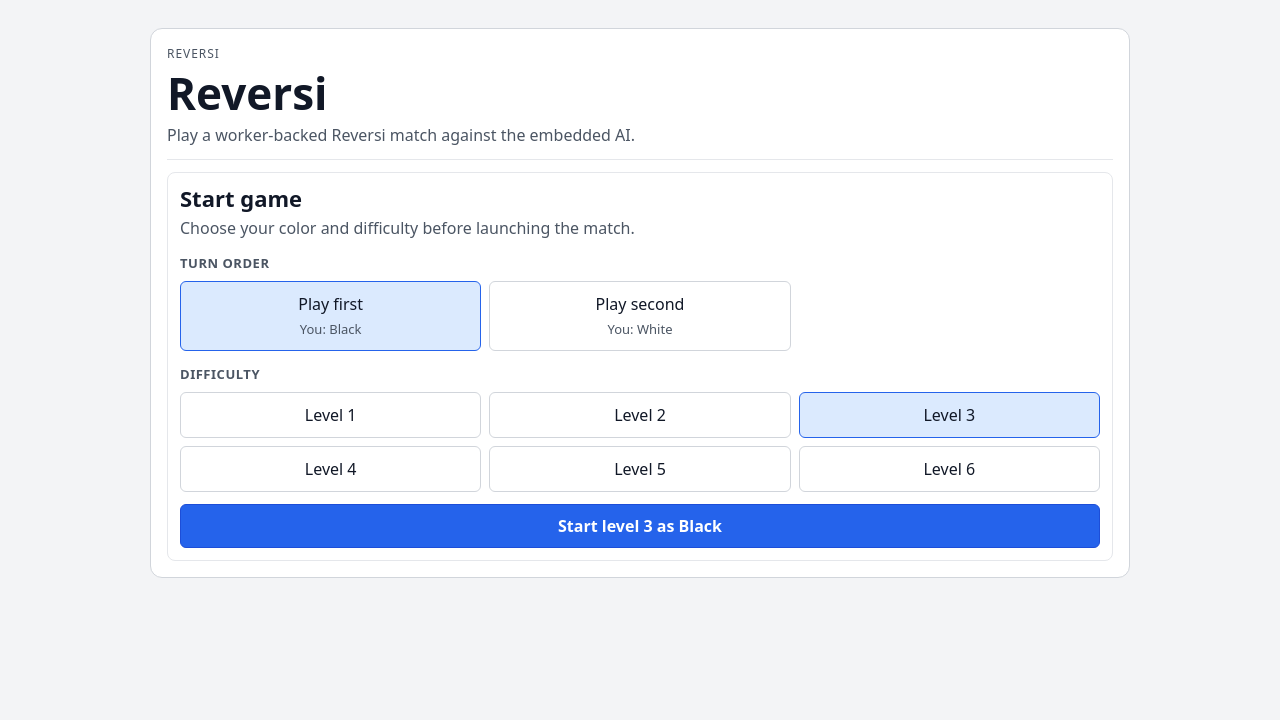
Test case: App › lets the player choose white and waits for the AI opening move
Click the button "Play second You: White". click: [640, 316]
box: x1=489 y1=281 x2=791 y2=351
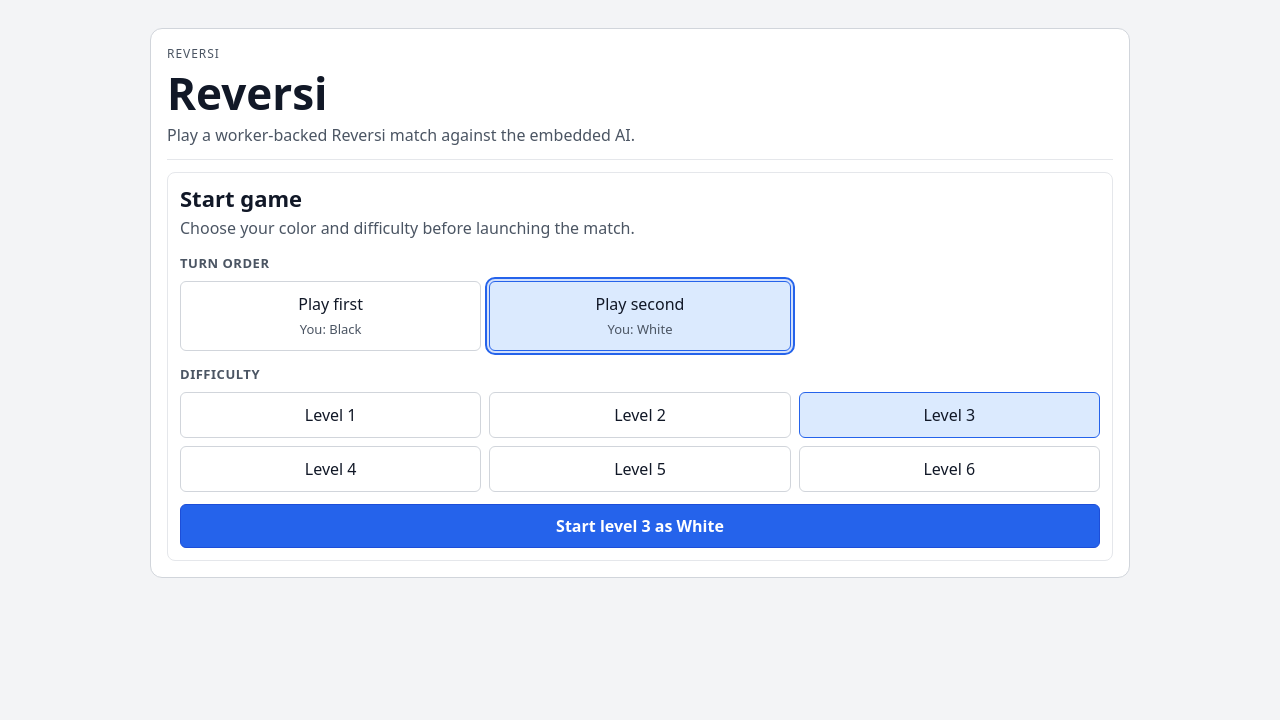
Click the button "Start level 3 as White". click: [640, 526]
box: x1=180 y1=504 x2=1100 y2=548
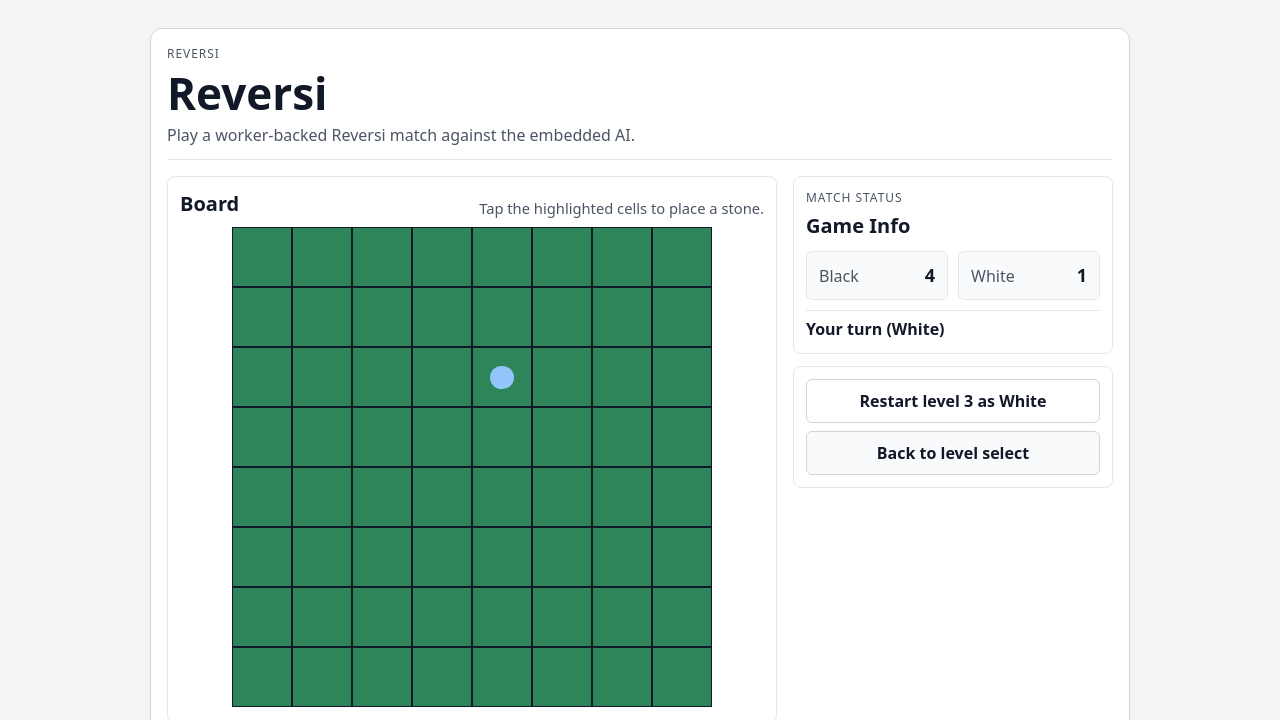
Now the text "Your turn (White)" is shown, box x1=806 y1=310 x2=1100 y2=341
Now the button "Restart level 3 as White" is shown, box x1=806 y1=379 x2=1100 y2=423
Now the button named "Cell 3-5 legal move" is shown, box x1=472 y1=347 x2=532 y2=407
